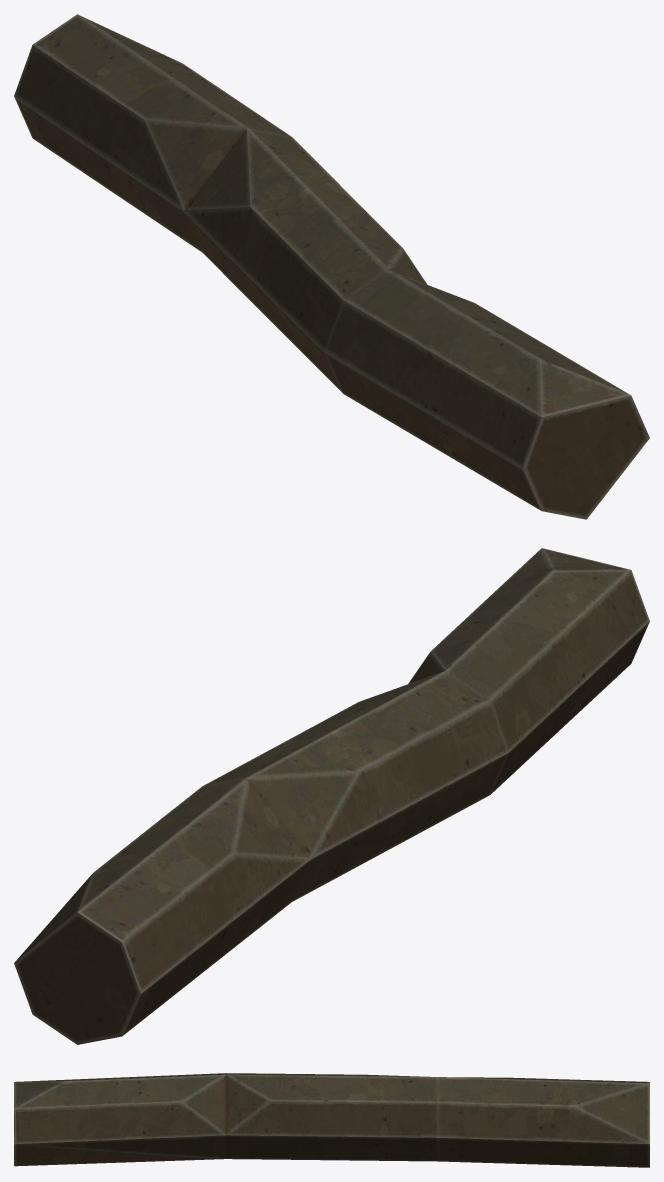
File: SlagRod_Polished.glb
The picture shows the model from 3 angles, top to bottom: view 1: azimuth 30°, elevation 25°; view 2: azimuth 150°, elevation 25°; view 3: azimuth 270°, elevation 25°; orthographic projection. The views are drawn at different scales.
Parts seen in each view (by area): view 1: SlagRod_Polished; view 2: SlagRod_Polished; view 3: SlagRod_Polished.
Boxes of the visible parts, left/top/right/bottom form: SlagRod_Polished: left=14, top=14, right=649, bottom=519; SlagRod_Polished: left=14, top=548, right=649, bottom=1044; SlagRod_Polished: left=14, top=1073, right=649, bottom=1167.
Bounding box in the file's own units: 0.1425 × 0.1251 × 0.8081.
Materials: 1 (1 with a texture image).
